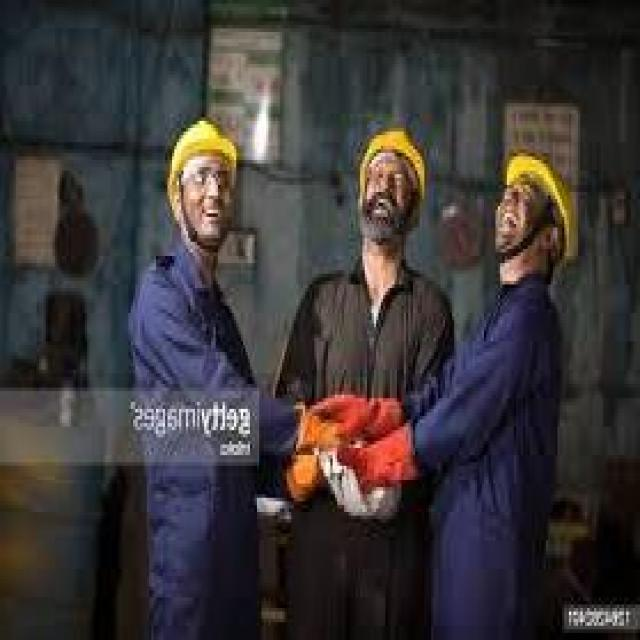Safety-Helmet: (482, 135, 598, 277), (326, 96, 450, 220), (149, 100, 262, 214)
